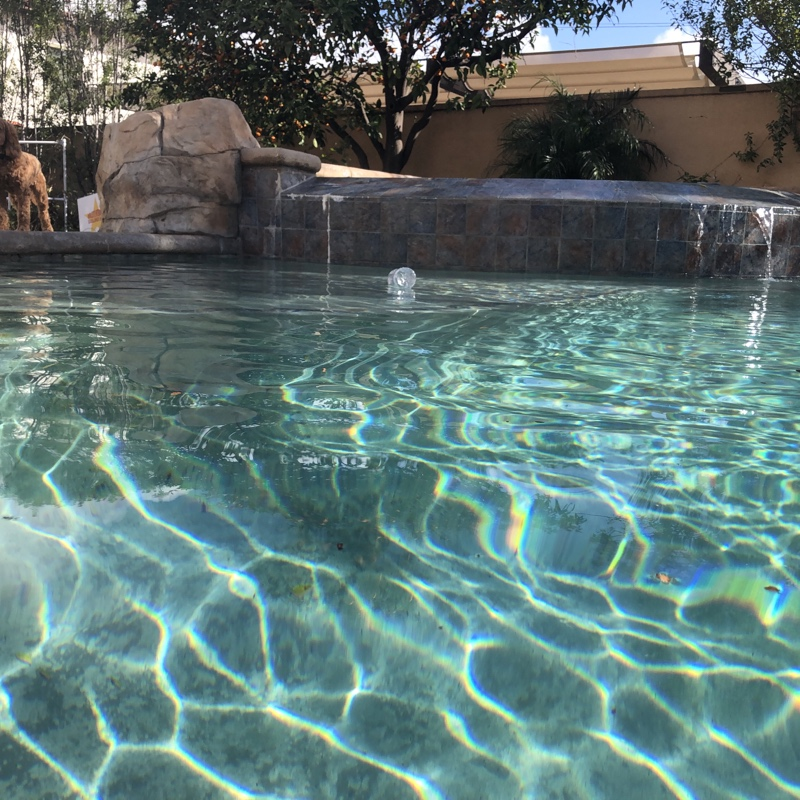Plastic Bottle: (386, 265, 417, 295)
